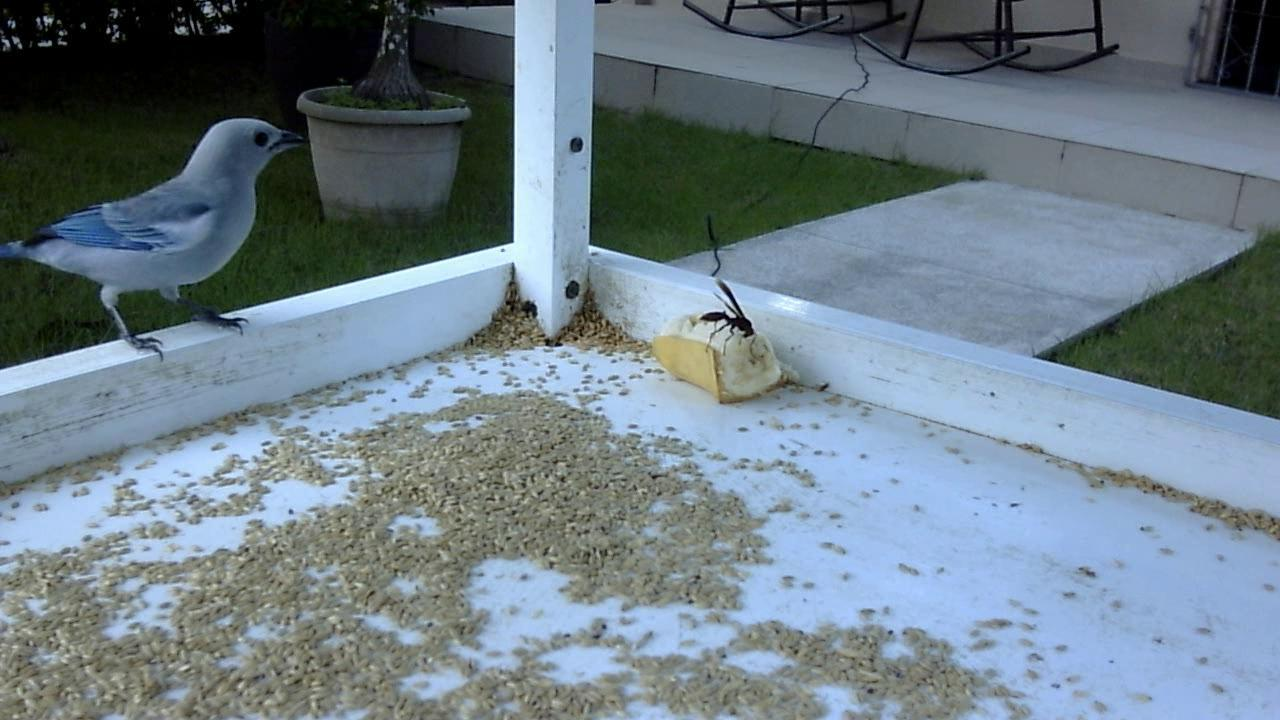sanhaco_da_amazonia: (4, 110, 307, 367)
